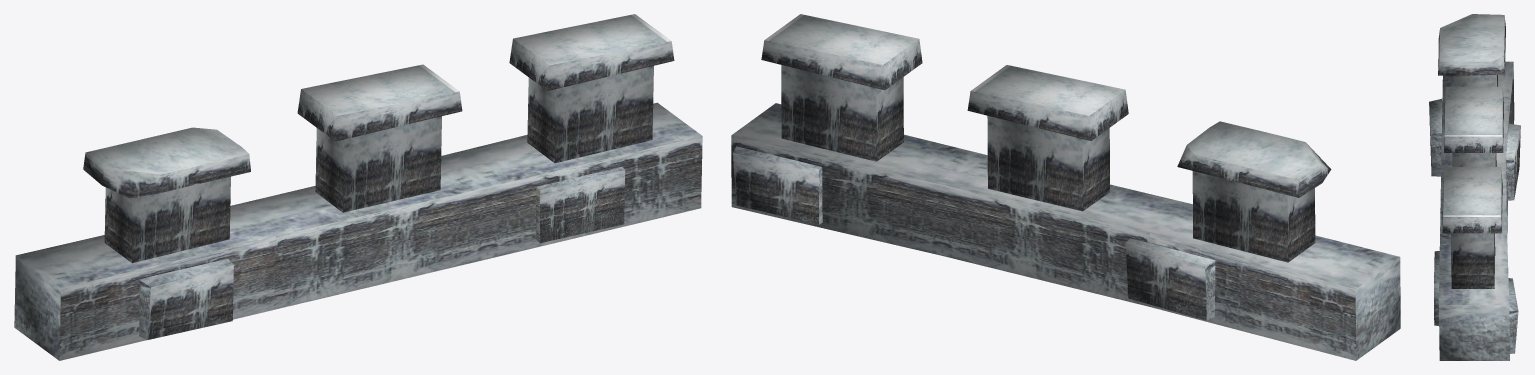
The model's file is S_Build_Snowland161.FBX.
3 views of the same model, side by side, from view 1: azimuth 30°, elevation 25°; view 2: azimuth 150°, elevation 25°; view 3: azimuth 270°, elevation 25° (orthographic). The views are drawn at different scales.
Parts seen in each view (by area): view 1: S_Build_Snowland161; view 2: S_Build_Snowland161; view 3: S_Build_Snowland161.
Part boxes in pixels (left/top/right/bottom): S_Build_Snowland161: left=14, top=14, right=702, bottom=360; S_Build_Snowland161: left=731, top=14, right=1400, bottom=360; S_Build_Snowland161: left=1429, top=14, right=1520, bottom=360.
Bounding box in the file's own units: 499 × 79.86 × 132.
